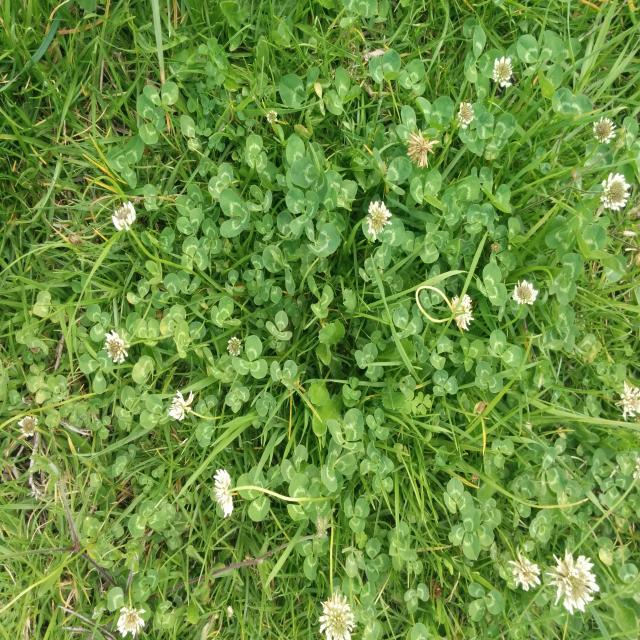Four Leaf Clover: (225, 381, 250, 413)
